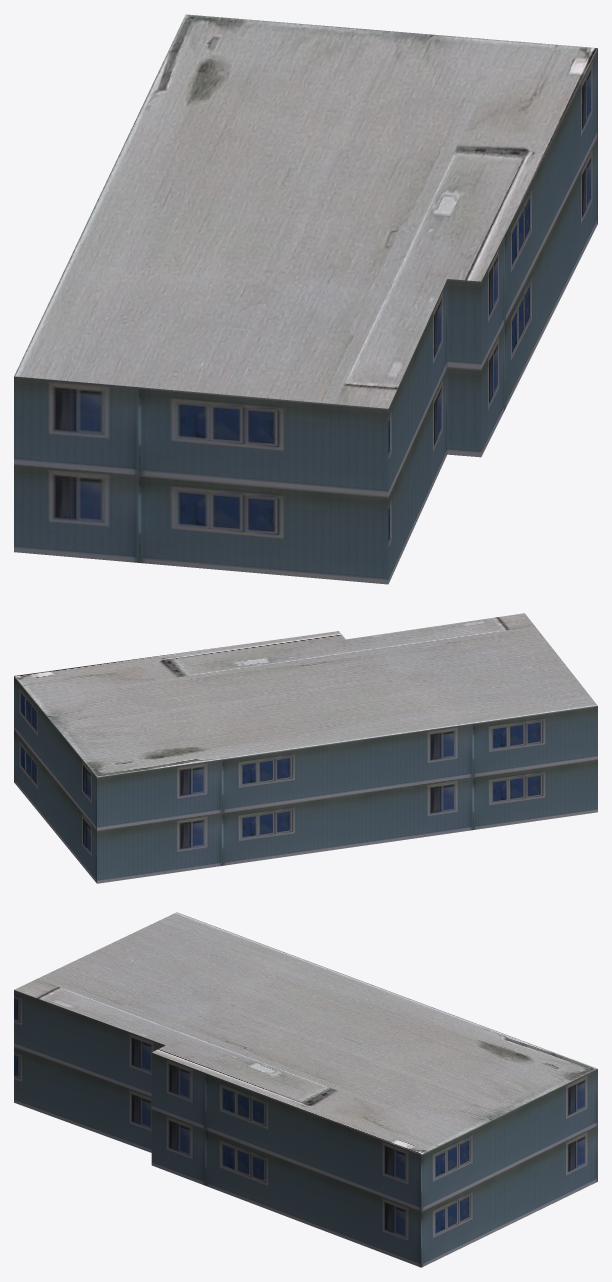
File: RelTex__12.fbx
The picture shows the model from 3 angles, top to bottom: view 1: azimuth 30°, elevation 25°; view 2: azimuth 150°, elevation 25°; view 3: azimuth 270°, elevation 25°; orthographic projection. The views are drawn at different scales.
Parts seen in each view (by area): view 1: CityEngineMaterial_20_m, CityEngineMaterial_3_m; view 2: CityEngineMaterial_3_m, CityEngineMaterial_20_m; view 3: CityEngineMaterial_3_m, CityEngineMaterial_20_m.
Part boxes in pixels (left/top/right/bottom): CityEngineMaterial_20_m: left=14, top=14, right=597, bottom=408; CityEngineMaterial_3_m: left=14, top=48, right=597, bottom=584; CityEngineMaterial_3_m: left=14, top=676, right=597, bottom=883; CityEngineMaterial_20_m: left=14, top=613, right=597, bottom=777; CityEngineMaterial_3_m: left=14, top=990, right=597, bottom=1267; CityEngineMaterial_20_m: left=14, top=912, right=597, bottom=1154.
Size of the model in its own units: 27.67 by 6 by 28.14.
Materials: 2 (2 with a texture image).
